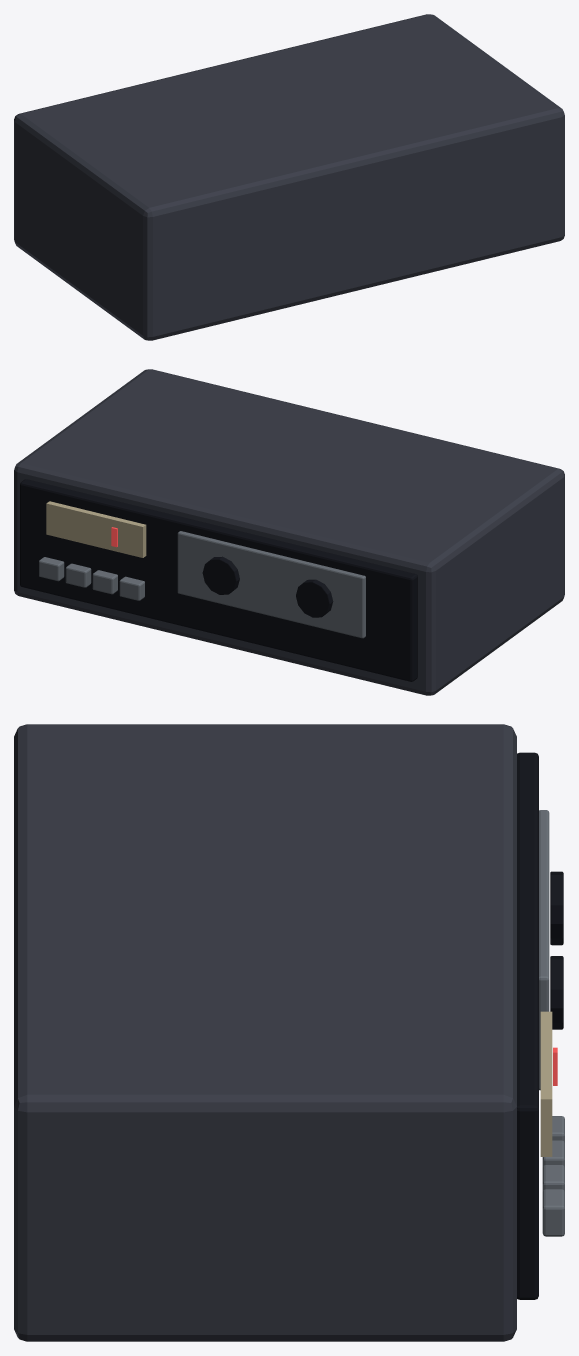
The model's file is cassette_deck.glb.
The picture shows the model from 3 angles, top to bottom: view 1: azimuth 30°, elevation 25°; view 2: azimuth 150°, elevation 25°; view 3: azimuth 270°, elevation 25°; orthographic projection. The views are drawn at different scales.
Visible parts, largest first — view 1: cassette_deck; view 2: cassette_deck; view 3: cassette_deck.
Part boxes in pixels (<box>): cassette_deck: <box>14,14,564,340</box>; cassette_deck: <box>14,369,564,695</box>; cassette_deck: <box>14,724,564,1341</box>.
Size of the model in its own units: 0.61 by 0.184 by 0.3725.
